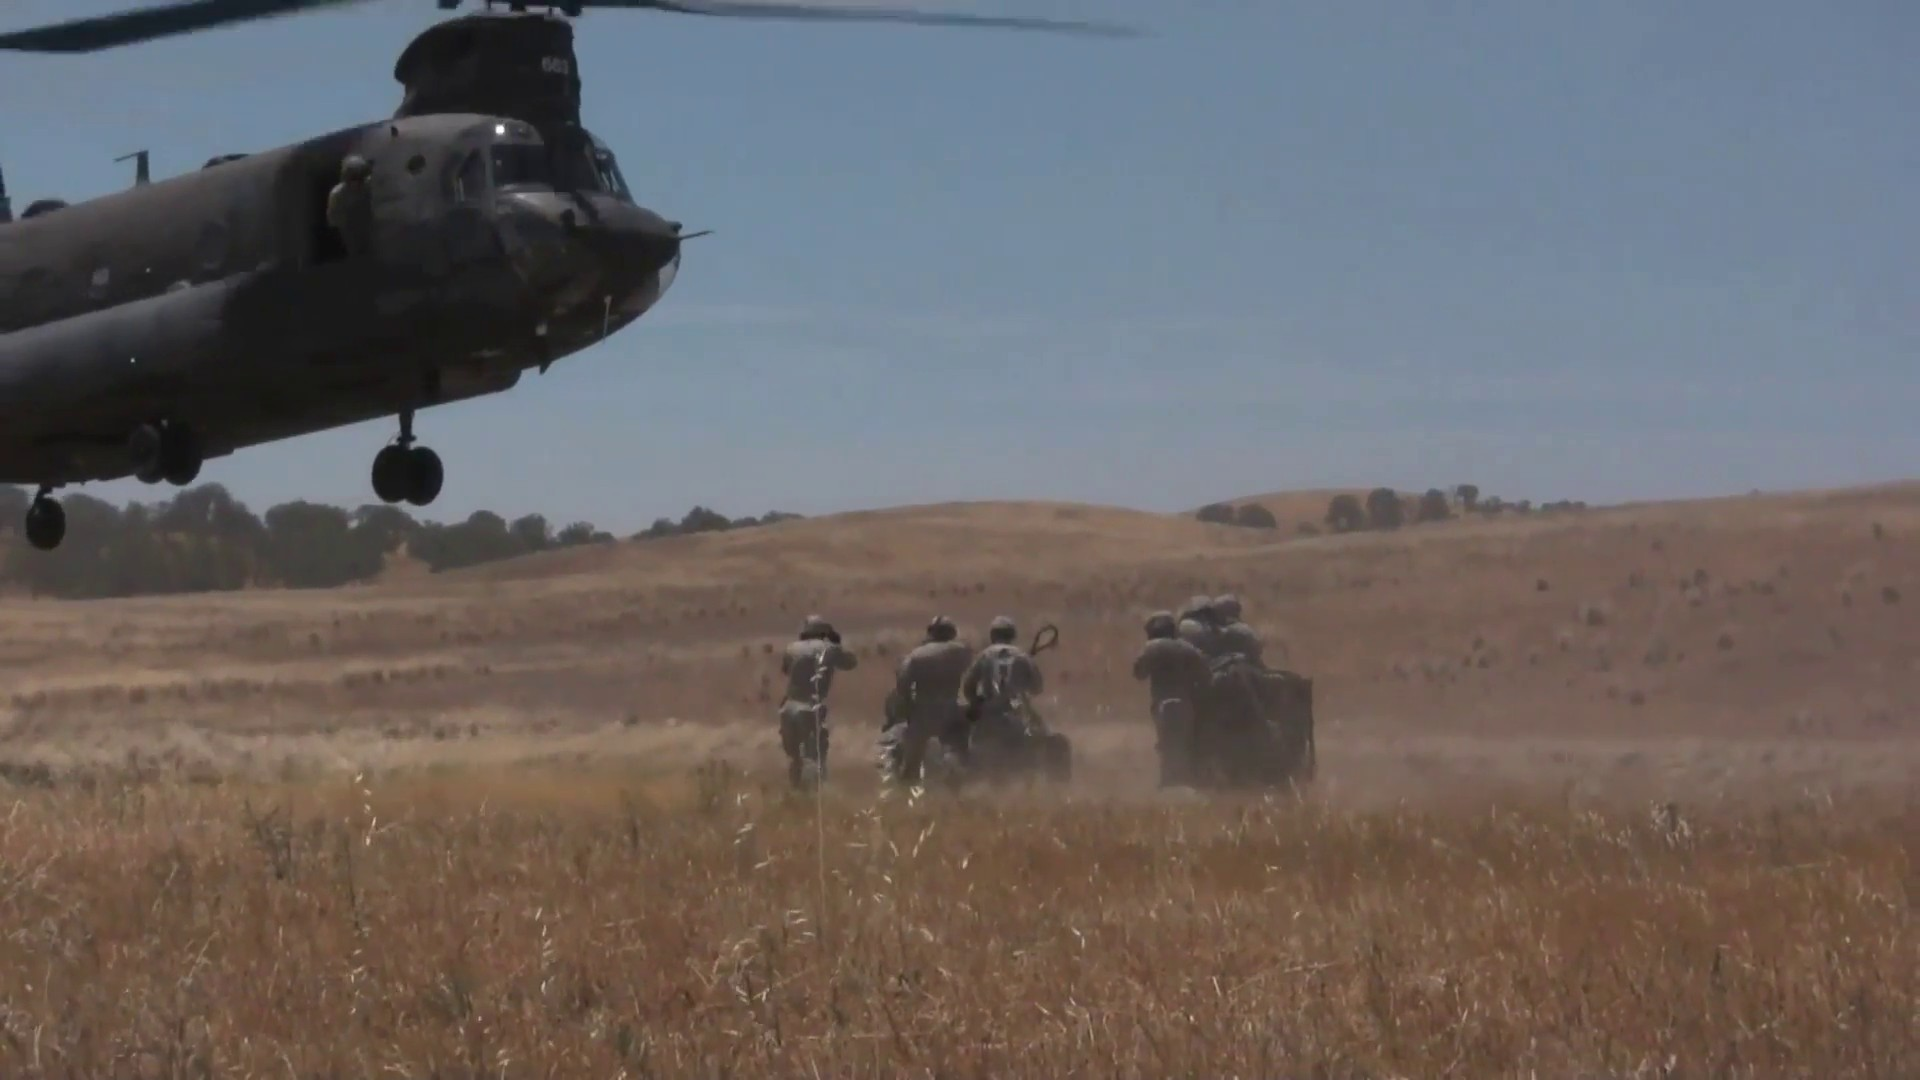chinook: (4, 7, 916, 553)
